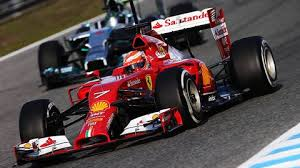FormulaOneCar: (11, 6, 277, 165), (33, 1, 200, 83)
